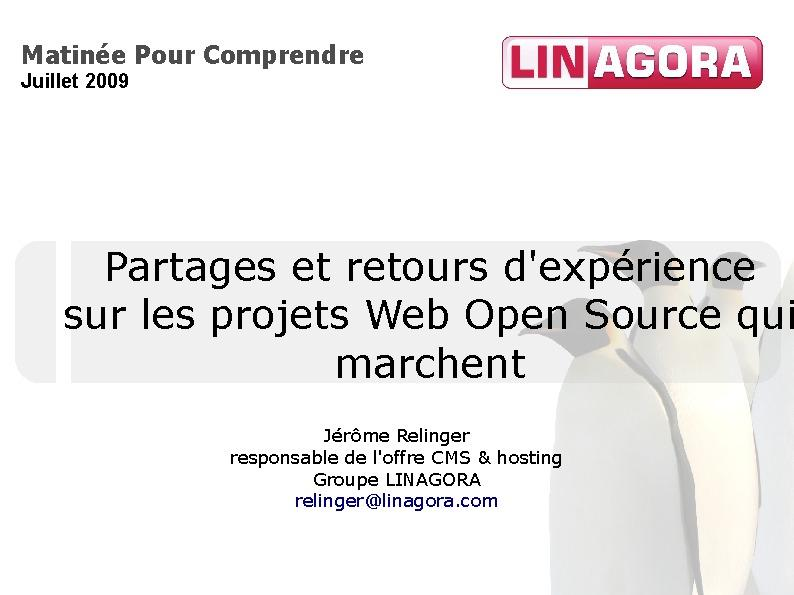title: (48, 217, 794, 402)
